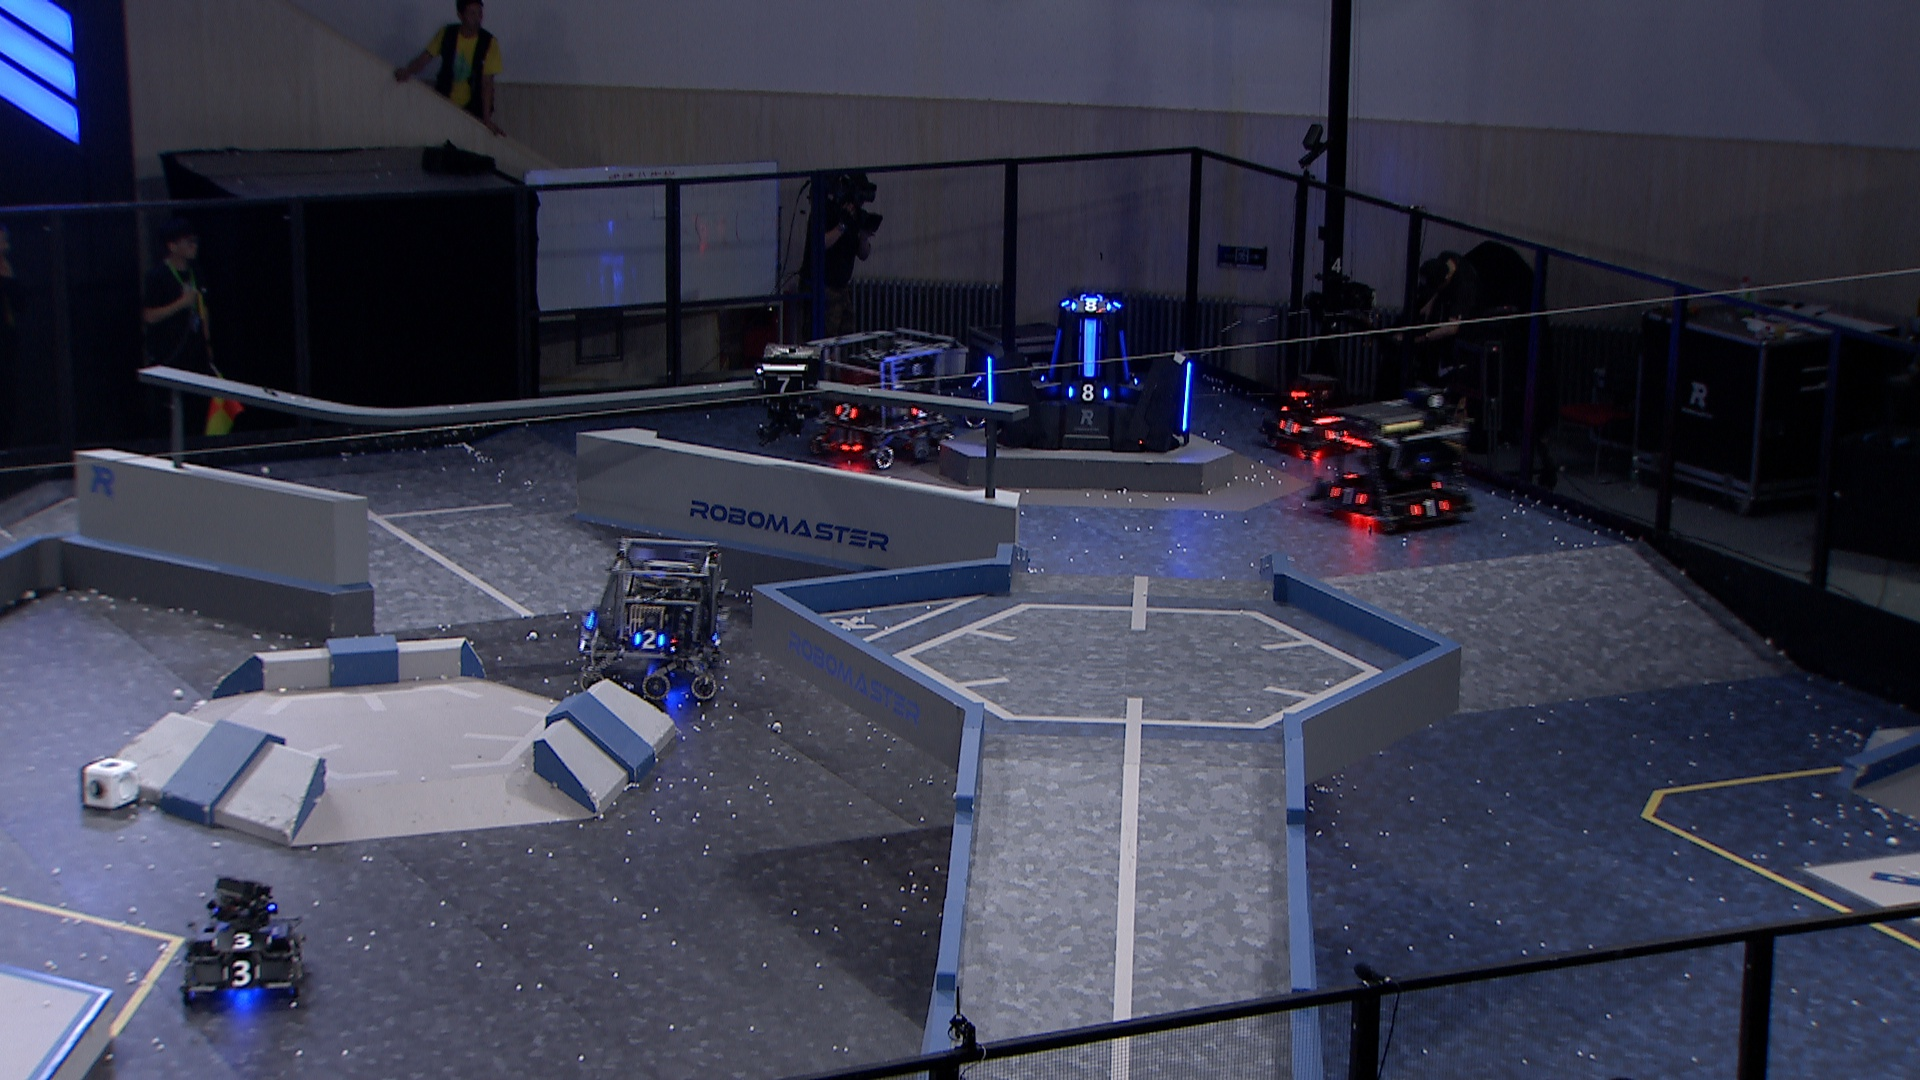armor: (207, 928, 276, 953), (1077, 318, 1102, 378), (216, 959, 262, 989), (1178, 360, 1196, 433), (756, 375, 808, 396), (1040, 327, 1062, 380), (1410, 495, 1452, 520), (1328, 484, 1367, 509), (1068, 295, 1112, 316), (1116, 328, 1131, 381), (633, 628, 666, 651), (1067, 382, 1110, 400), (982, 353, 996, 406), (1323, 423, 1353, 444), (1276, 415, 1304, 438), (832, 400, 858, 422), (907, 400, 928, 422)
base: (978, 291, 1200, 456)
car: (567, 533, 740, 705), (800, 318, 975, 469), (1304, 381, 1477, 533), (174, 873, 305, 1011), (1259, 371, 1370, 465)
watcher: (746, 342, 825, 442)
